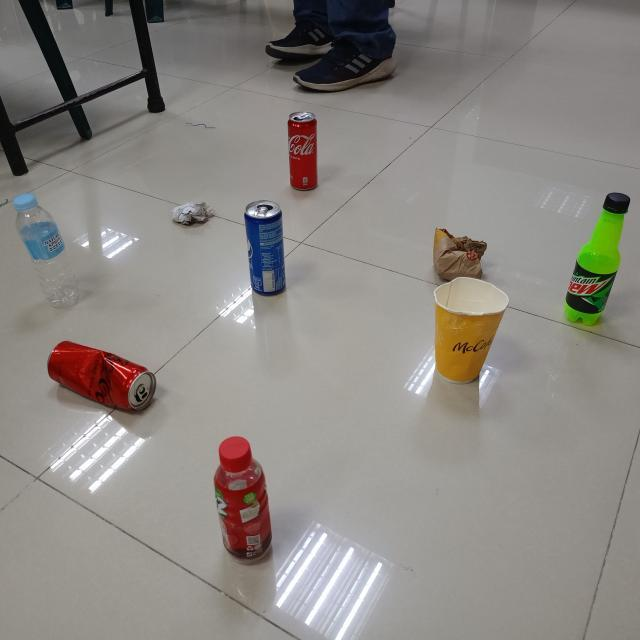recyclable waste: (559, 187, 635, 332), (424, 270, 514, 387), (40, 336, 162, 418), (208, 429, 278, 568), (10, 189, 84, 308), (238, 196, 292, 299), (282, 105, 326, 197), (428, 223, 489, 283), (168, 197, 219, 229)
